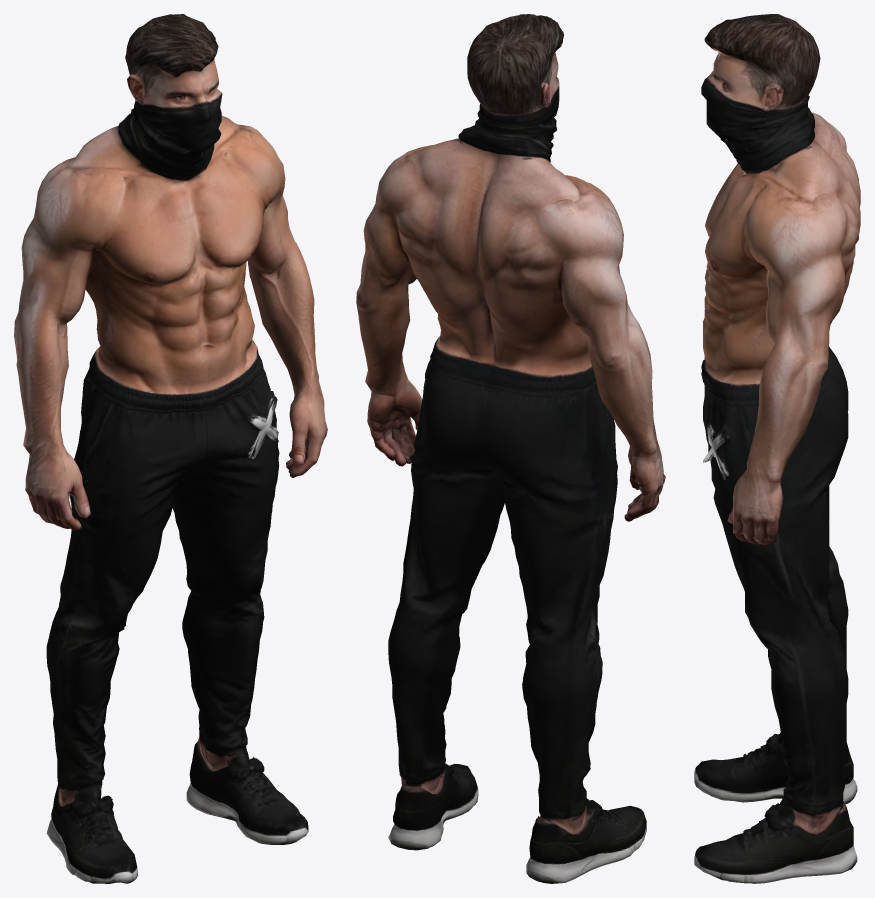
File: AYTEX-opt.glb
3 views of the same model, side by side, from view 1: azimuth 30°, elevation 25°; view 2: azimuth 150°, elevation 25°; view 3: azimuth 270°, elevation 25° (orthographic).
Parts seen in each view (by area): view 1: tripo_node_702948ec-c2ff-4e3d-88d6-e6a9e156c5cf; view 2: tripo_node_702948ec-c2ff-4e3d-88d6-e6a9e156c5cf; view 3: tripo_node_702948ec-c2ff-4e3d-88d6-e6a9e156c5cf.
Part boxes in pixels (x1,y1,x2,y2): tripo_node_702948ec-c2ff-4e3d-88d6-e6a9e156c5cf: [14, 14, 327, 883]; tripo_node_702948ec-c2ff-4e3d-88d6-e6a9e156c5cf: [356, 14, 665, 883]; tripo_node_702948ec-c2ff-4e3d-88d6-e6a9e156c5cf: [694, 14, 860, 883].
Size of the model in its own units: 0.3653 by 0.9773 by 0.1817.
Materials: 1 (1 with a texture image).
